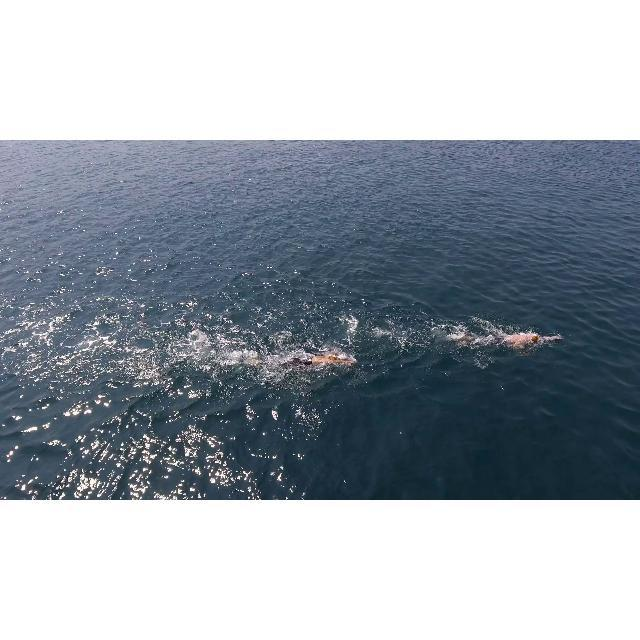human: (454, 331, 565, 349), (290, 352, 356, 368)
